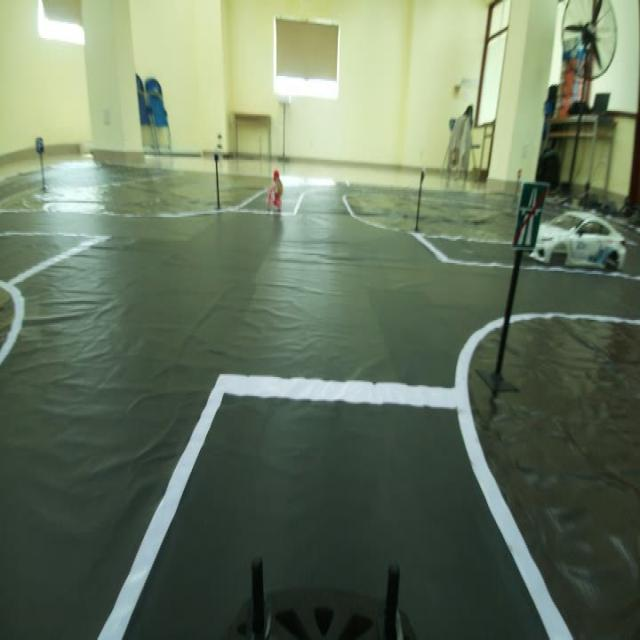highway_exit: (507, 164, 548, 261)
